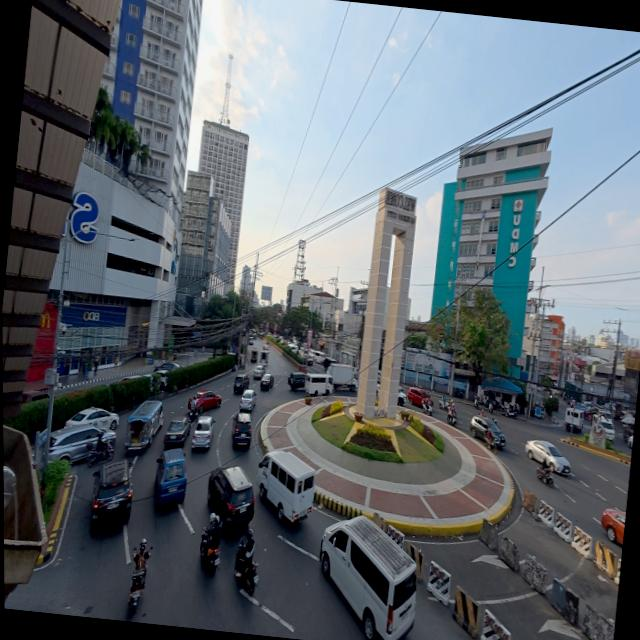car: (152, 444, 193, 512), (523, 437, 575, 479), (466, 417, 506, 450), (599, 507, 626, 549), (187, 416, 214, 452), (231, 414, 256, 449), (284, 370, 306, 393), (236, 387, 256, 410), (231, 372, 251, 394), (258, 372, 275, 392)
vans: (312, 511, 427, 640)
